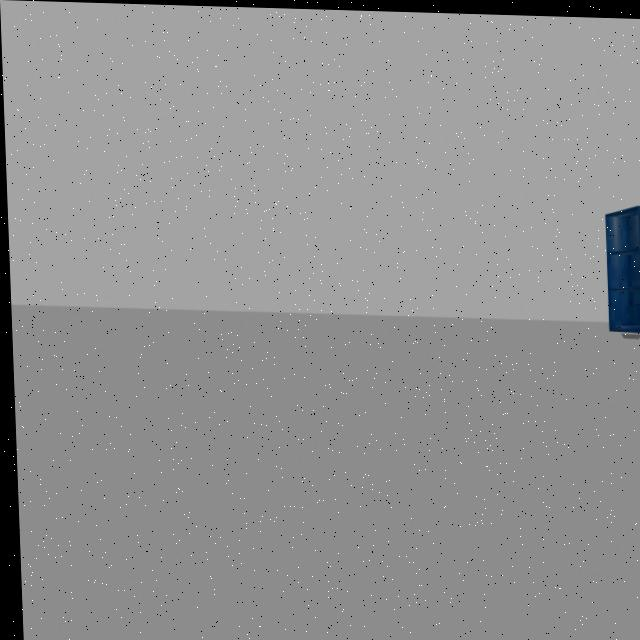bowl: (618, 325, 640, 345)
shelf: (597, 195, 640, 330)
